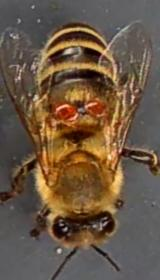varroa_mite: (52, 88, 78, 126), (76, 96, 115, 120)
